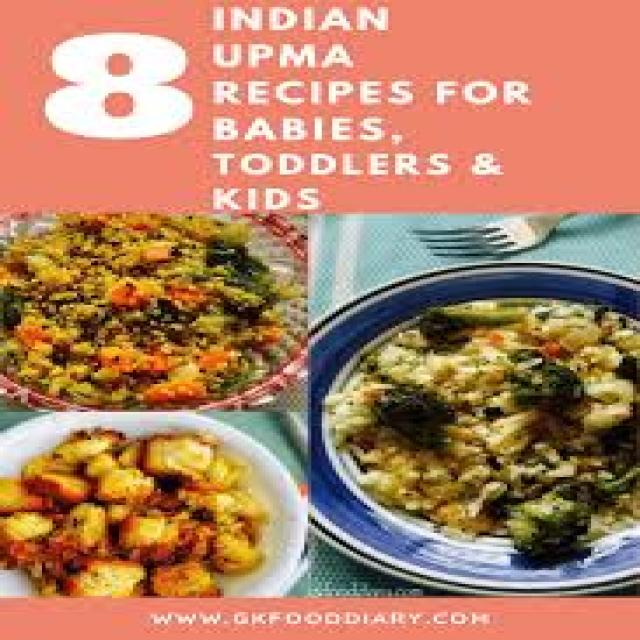POHA: (325, 296, 637, 547), (0, 212, 304, 398), (0, 426, 262, 591)
